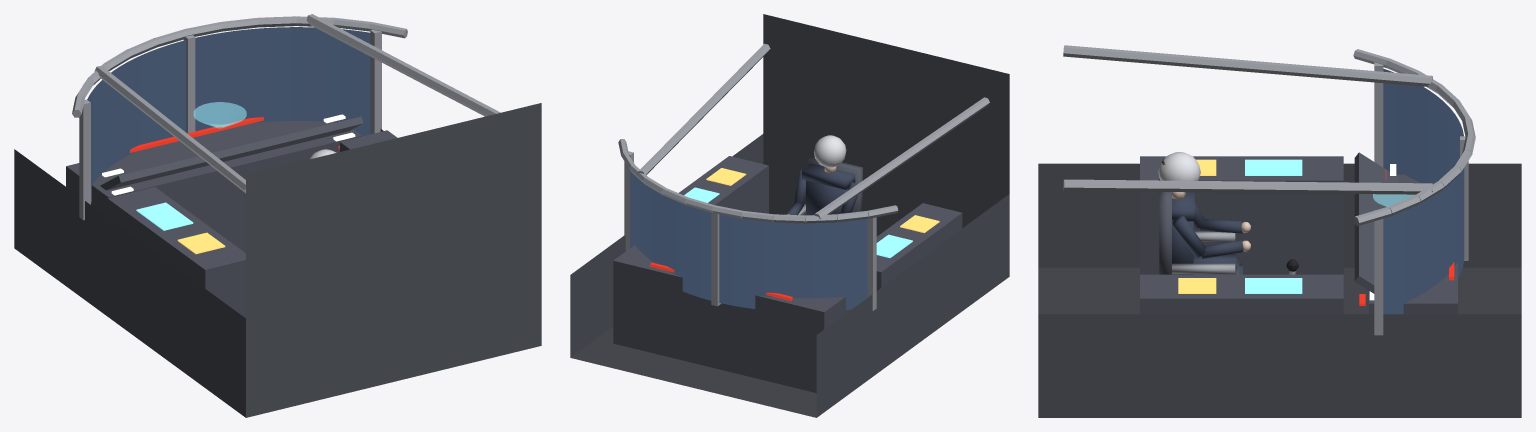
File: cockpit_interior.glb
The picture shows the model from 3 angles, left to right: view 1: azimuth 30°, elevation 25°; view 2: azimuth 150°, elevation 25°; view 3: azimuth 270°, elevation 25°; orthographic projection. The views are drawn at different scales.
Visible parts, largest first — view 1: Shell, Cockpit, ViewScreen, HoloProjection, Alert_D; view 2: Shell, Cockpit, ViewScreen, Pilot; view 3: Shell, Cockpit, ViewScreen, Pilot.
Part boxes in pixels (x1,y1,x2,y2): Shell: [14, 103, 541, 417]; Cockpit: [66, 14, 500, 318]; ViewScreen: [87, 27, 370, 202]; HoloProjection: [193, 102, 246, 128]; Alert_D: [130, 117, 263, 152]; Shell: [570, 14, 1009, 417]; Cockpit: [613, 43, 989, 392]; ViewScreen: [630, 170, 867, 309]; Pilot: [786, 135, 862, 215]; Shell: [1038, 163, 1521, 417]; Cockpit: [1063, 45, 1475, 335]; ViewScreen: [1383, 68, 1464, 314]; Pilot: [1158, 152, 1250, 274].
Size of the model in its own units: 3.18 by 2.2 by 3.8.
